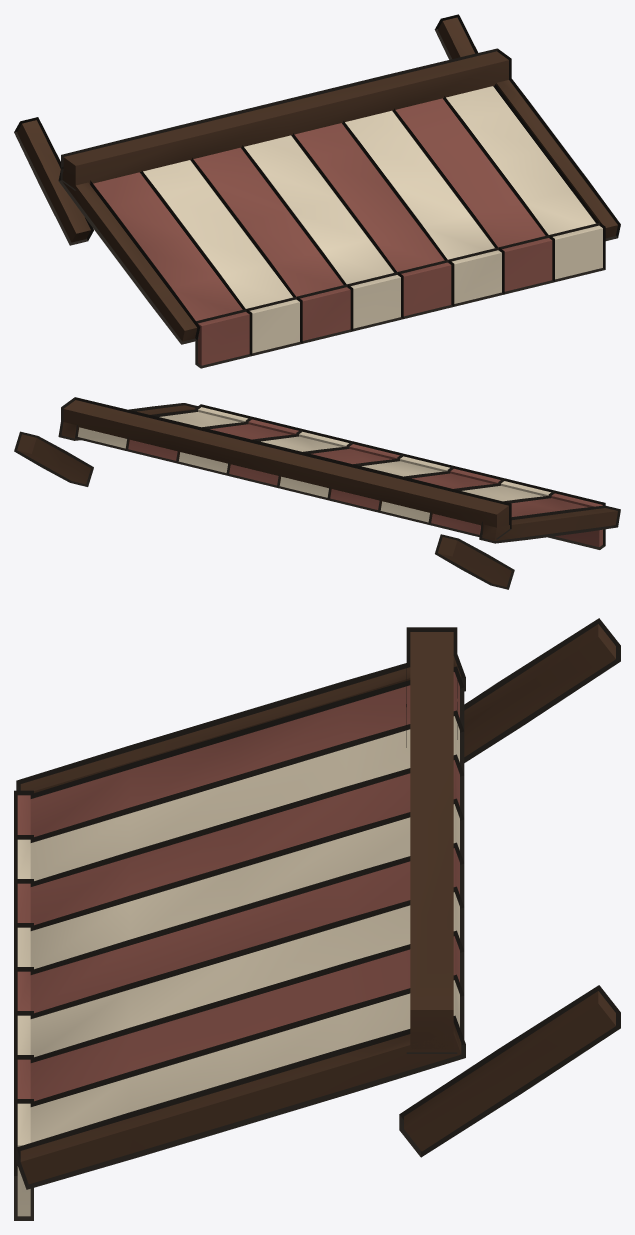
The model's file is auvent_etal.glb.
The picture shows the model from 3 angles, top to bottom: view 1: azimuth 30°, elevation 25°; view 2: azimuth 150°, elevation 25°; view 3: azimuth 270°, elevation 25°; orthographic projection. The views are drawn at different scales.
Visible parts, largest first — view 1: auvent_etal, auvent_etal_outline; view 2: auvent_etal, auvent_etal_outline; view 3: auvent_etal, auvent_etal_outline.
Part boxes in pixels (x1=…): auvent_etal: x1=17, y1=17, x2=617, y2=365; auvent_etal_outline: x1=14, y1=14, x2=620, y2=368; auvent_etal: x1=17, y1=400, x2=617, y2=586; auvent_etal_outline: x1=14, y1=397, x2=620, y2=589; auvent_etal: x1=17, y1=624, x2=615, y2=1216; auvent_etal_outline: x1=14, y1=618, x2=620, y2=1220.
Size of the model in its own units: 2.09 by 0.5976 by 1.4.
